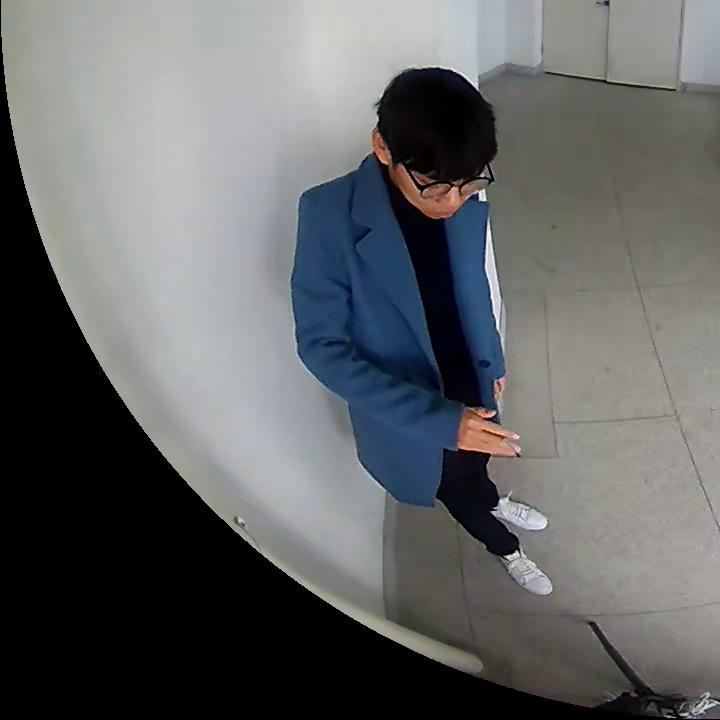handsmoke: (460, 410, 527, 464)
mouthwithoutsmoke: (368, 67, 495, 220)
